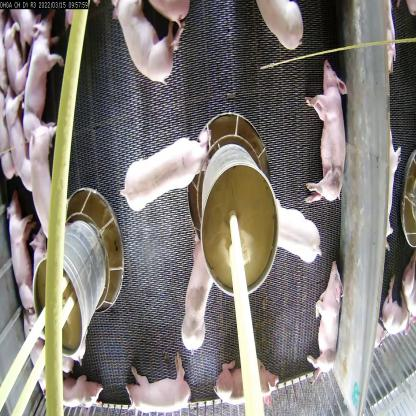Pig: (107, 0, 181, 90), (119, 134, 206, 207), (22, 27, 63, 137), (310, 261, 348, 376), (272, 196, 325, 274), (181, 229, 215, 350), (124, 361, 195, 416), (28, 130, 62, 244), (6, 198, 35, 318), (216, 362, 280, 412), (254, 0, 308, 53), (5, 91, 30, 195)
